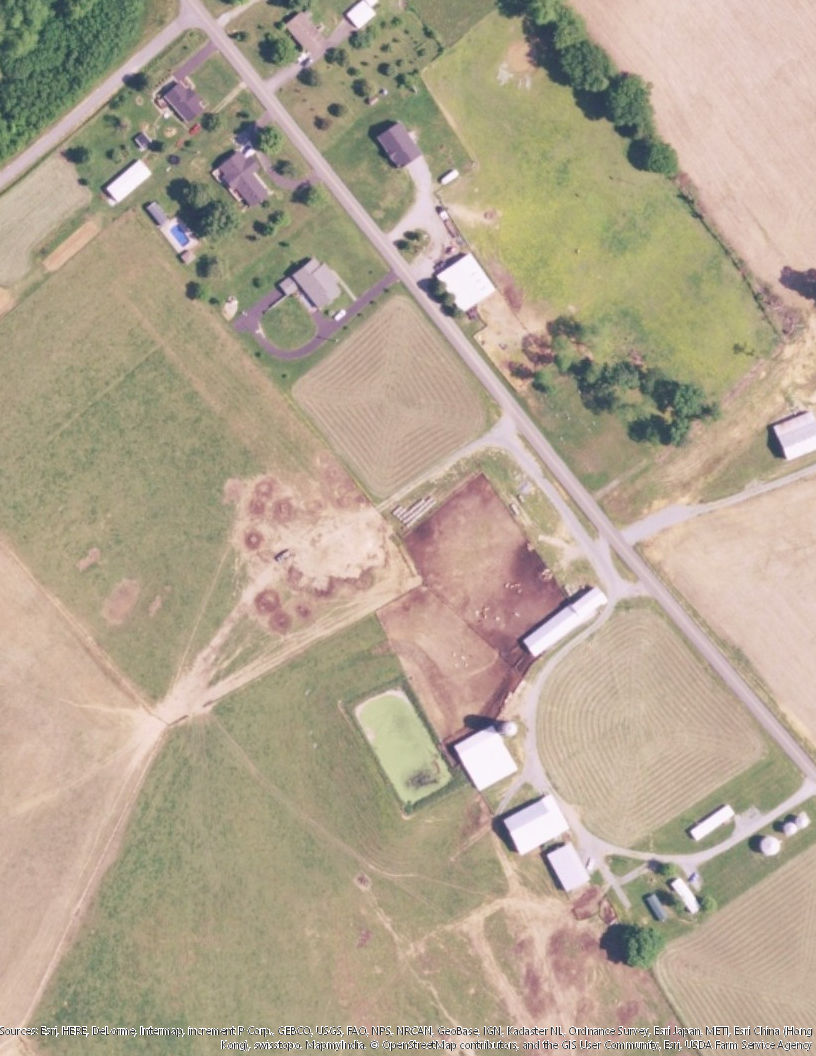cafo: (516, 581, 618, 661), (445, 720, 528, 794), (496, 785, 571, 860), (432, 248, 500, 310), (544, 841, 592, 895), (686, 802, 738, 843)
